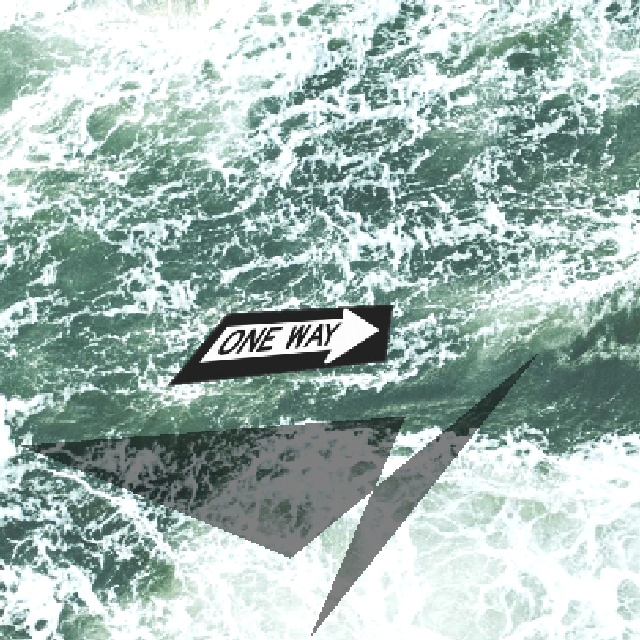ONE_WAY_ right: (164, 302, 392, 385)
